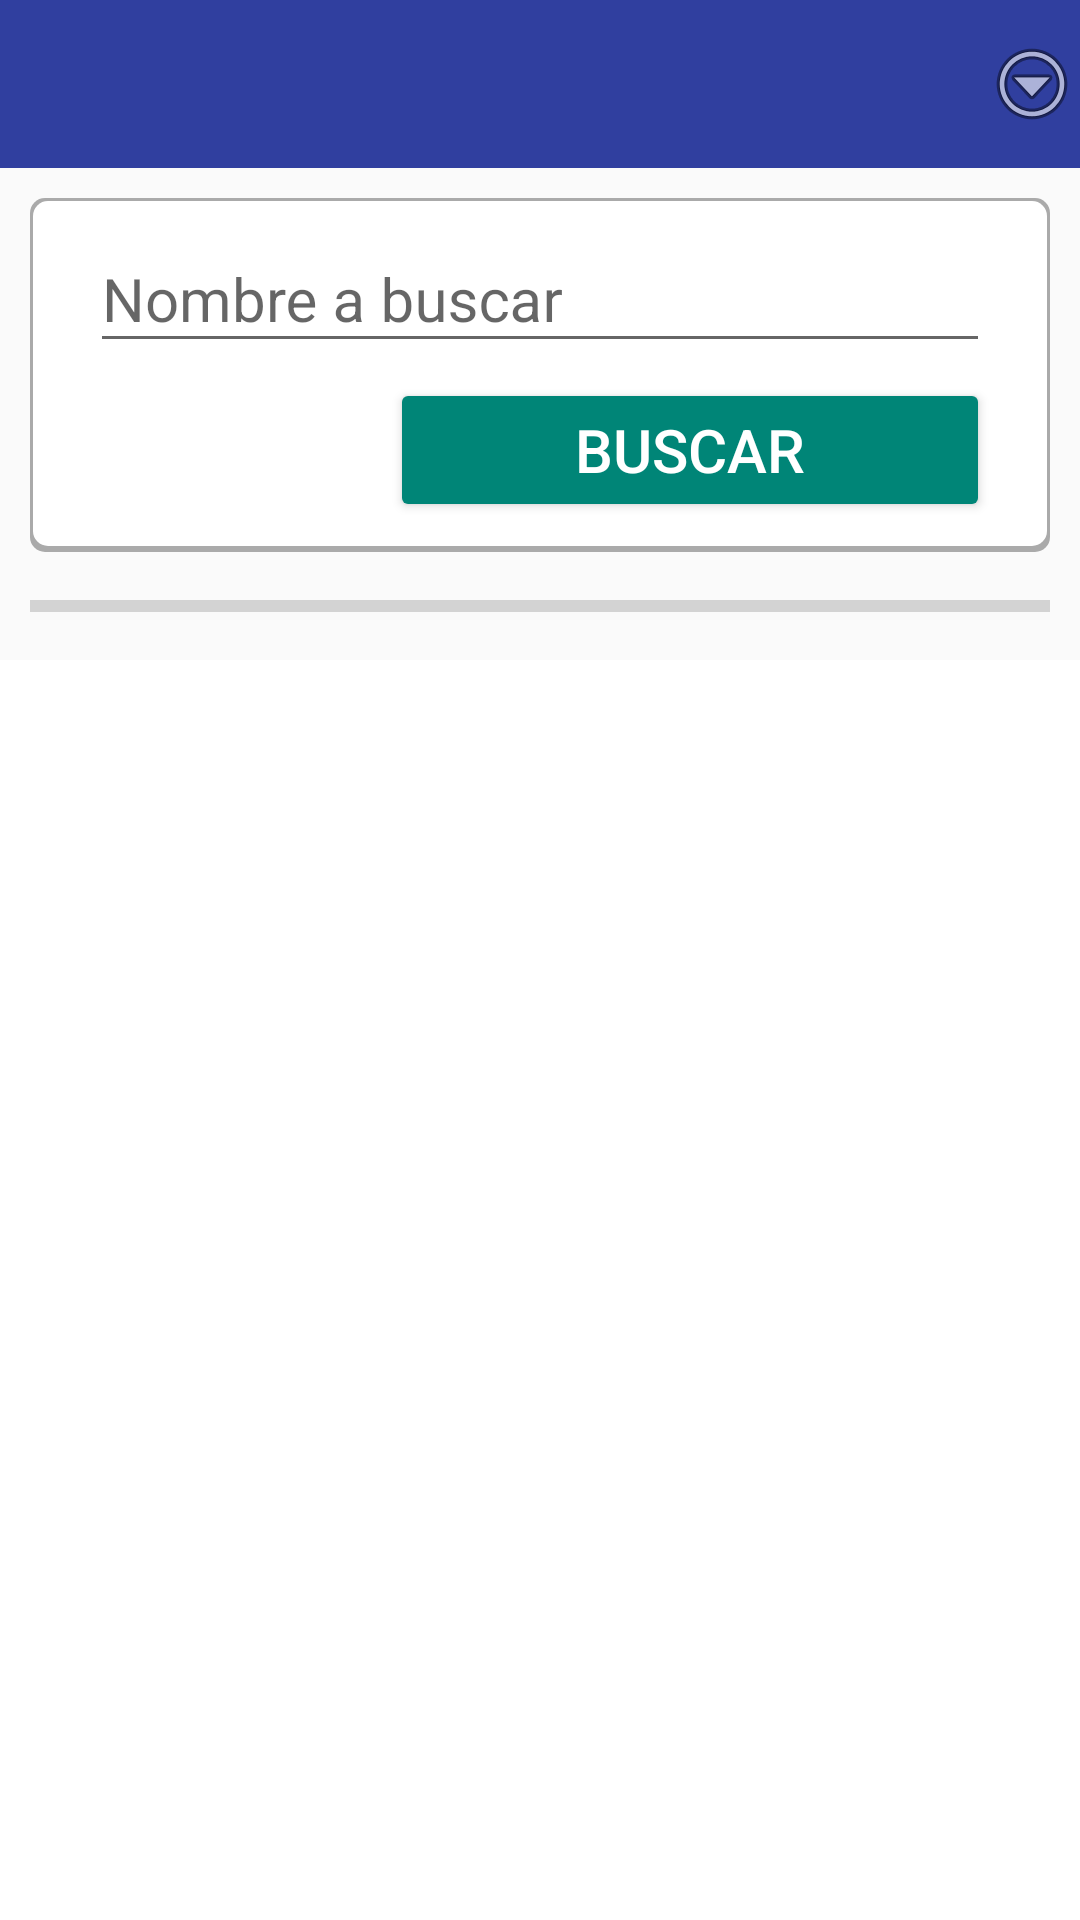

Icons on this 1080×1920 Android screen, each with the point to tap as point (x, y):
more: point (1032, 84)
